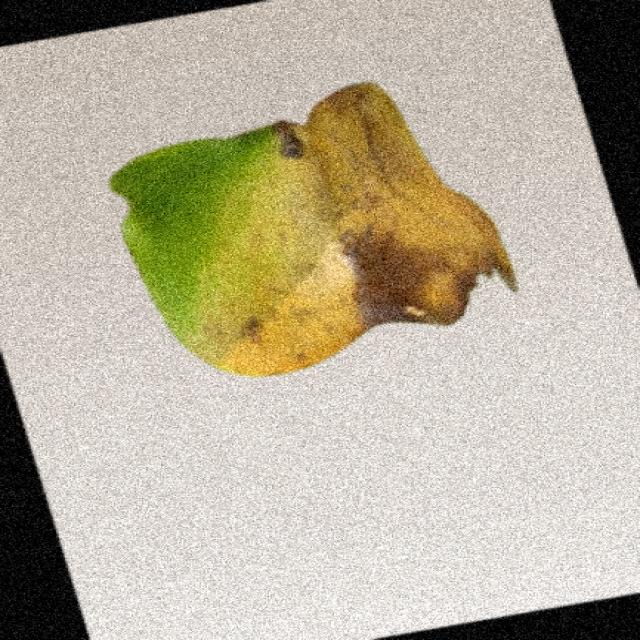daun berpenyakit kuning: (110, 84, 516, 376)
